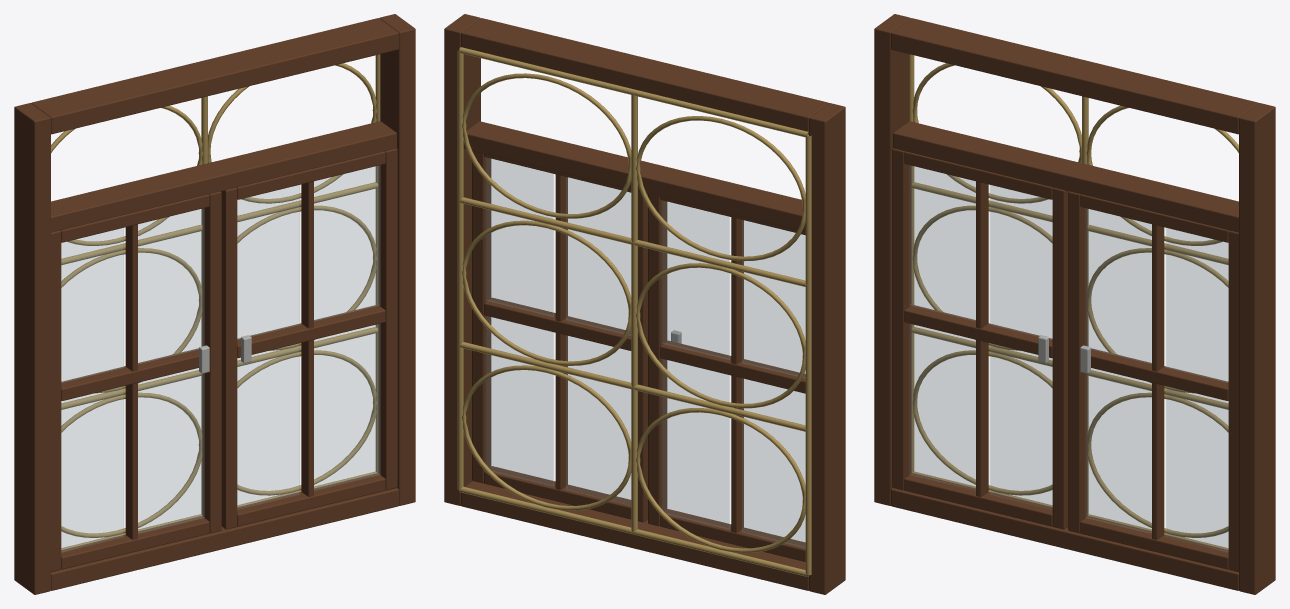
The model's file is classroom_window.glb.
The picture shows the model from 3 angles, left to right: view 1: azimuth 30°, elevation 25°; view 2: azimuth 150°, elevation 25°; view 3: azimuth 330°, elevation 25°; orthographic projection.
Parts seen in each view (by area): view 1: KAClass_Window_Frame_Vertical, KAClass_Window_Frame_Horizontal.001, KAClass_Window_Transom_Rail, KAClass_Window_Frame_Vertical.001, KAClass_Window_Right_Glass.002, KAClass_Window_Left_Glass.002, KAClass_Window_Left_Glass, KAClass_Window_Right_Glass, KAClass_Window_Right_Glass.003, KAClass_Window_Left_Glass.003, KAClass_Window_Left_Glass.001, KAClass_Window_Right_Glass.001 (+27 smaller); view 2: KAClass_Window_Frame_Vertical, KAClass_Window_Frame_Horizontal.001, KAClass_Window_Frame_Vertical.001, KAClass_Window_Transom_Rail, KAClass_Window_Left_Glass.002, KAClass_Window_Right_Glass.002, KAClass_Window_Right_Glass, KAClass_Window_Left_Glass.003, KAClass_Window_Right_Glass.003, KAClass_Window_Left_Glass, KAClass_Window_Right_Glass.001, KAClass_Window_Left_Glass.001 (+31 smaller); view 3: KAClass_Window_Frame_Vertical.001, KAClass_Window_Frame_Horizontal.001, KAClass_Window_Transom_Rail, KAClass_Window_Frame_Vertical, KAClass_Window_Left_Glass, KAClass_Window_Right_Glass, KAClass_Window_Right_Glass.002, KAClass_Window_Left_Glass.002, KAClass_Window_Left_Glass.001, KAClass_Window_Right_Glass.001, KAClass_Window_Right_Glass.003, KAClass_Window_Left_Glass.003 (+27 smaller).
Boxes of the visible parts, x1,y1,x2,y2 form: KAClass_Window_Frame_Vertical: (14,103,50,594); KAClass_Window_Frame_Horizontal.001: (31,18,398,134); KAClass_Window_Transom_Rail: (51,121,396,232); KAClass_Window_Frame_Vertical.001: (379,14,415,505); KAClass_Window_Right_Glass.002: (314,324,380,490); KAClass_Window_Left_Glass.002: (138,368,204,533); KAClass_Window_Left_Glass: (61,386,123,552); KAClass_Window_Right_Glass: (237,343,299,508); KAClass_Window_Right_Glass.003: (314,165,380,320); KAClass_Window_Left_Glass.003: (138,208,204,363); KAClass_Window_Left_Glass.001: (61,228,123,382); KAClass_Window_Right_Glass.001: (237,185,299,339); KAClass_Window_Frame_Vertical: (809,103,845,594); KAClass_Window_Frame_Horizontal.001: (461,18,828,134); KAClass_Window_Frame_Vertical.001: (444,14,480,505); KAClass_Window_Transom_Rail: (463,121,805,231); KAClass_Window_Left_Glass.002: (662,359,729,529); KAClass_Window_Right_Glass.002: (486,316,553,485); KAClass_Window_Right_Glass: (566,335,630,505); KAClass_Window_Left_Glass.003: (662,200,729,359); KAClass_Window_Right_Glass.003: (486,157,553,316); KAClass_Window_Left_Glass: (742,378,805,547); KAClass_Window_Right_Glass.001: (566,177,630,335); KAClass_Window_Left_Glass.001: (742,220,805,377); KAClass_Window_Frame_Vertical.001: (1239,103,1275,594); KAClass_Window_Frame_Horizontal.001: (891,18,1258,134); KAClass_Window_Transom_Rail: (893,121,1238,232); KAClass_Window_Frame_Vertical: (874,14,910,505); KAClass_Window_Left_Glass: (909,324,975,490); KAClass_Window_Right_Glass: (1085,368,1151,533); KAClass_Window_Right_Glass.002: (1166,386,1228,552); KAClass_Window_Left_Glass.002: (990,343,1052,509); KAClass_Window_Left_Glass.001: (909,165,975,320); KAClass_Window_Right_Glass.001: (1085,208,1151,363); KAClass_Window_Right_Glass.003: (1166,228,1228,382); KAClass_Window_Left_Glass.003: (990,185,1052,339).
Size of the model in its own units: 1.6 by 1.9 by 0.1745.
